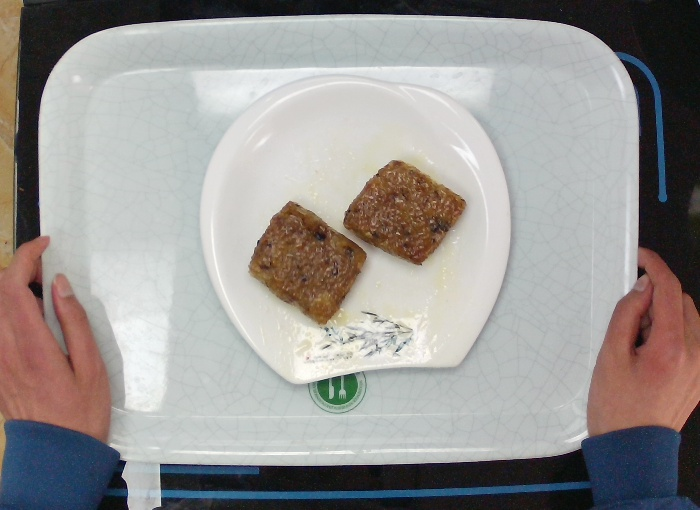JYsf-Mian_Pan: (189, 71, 520, 385)
